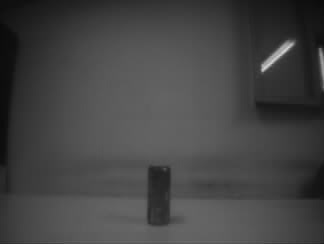Tin can: (147, 165, 171, 225)
